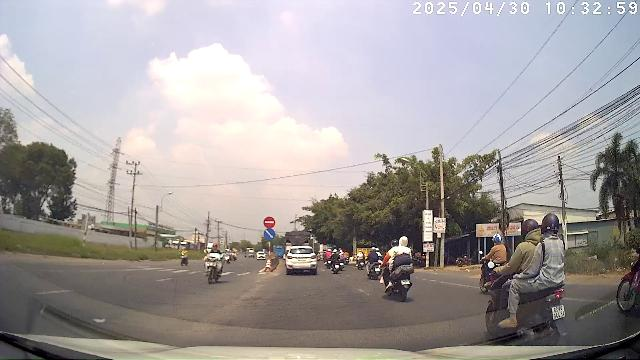102-cam-di-nguoc-chieu: (264, 216, 275, 228)
302a-huong-phai-di-vong-chuong-ngai-vat-1: (263, 228, 275, 241)
